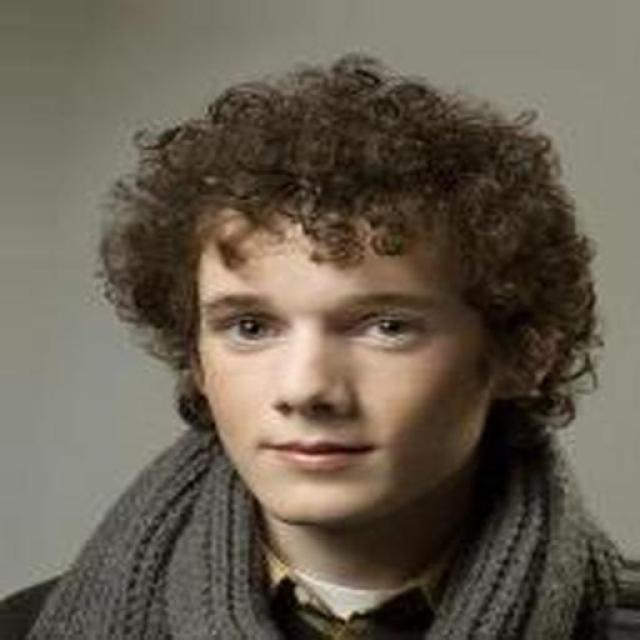bareface: (182, 80, 544, 535)
